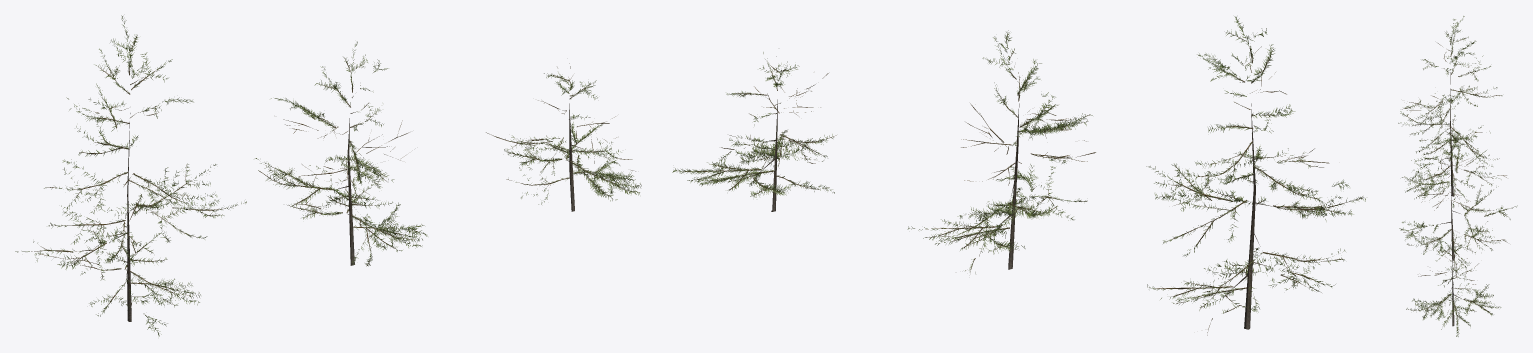
File: fir_sapling.glb
3 views of the same model, side by side, from view 1: azimuth 30°, elevation 25°; view 2: azimuth 150°, elevation 25°; view 3: azimuth 270°, elevation 25° (orthographic). The views are drawn at different scales.
Visible parts, largest first — view 1: fir_sapling_a, fir_sapling_b, fir_sapling_c; view 2: fir_sapling_a, fir_sapling_b, fir_sapling_c; view 3: fir_sapling_a, fir_sapling_b, fir_sapling_c.
Part boxes in pixels (bbox=[...]): fir_sapling_a: bbox=[15, 15, 246, 336]; fir_sapling_b: bbox=[255, 41, 427, 266]; fir_sapling_c: bbox=[486, 63, 641, 211]; fir_sapling_a: bbox=[1146, 16, 1365, 335]; fir_sapling_b: bbox=[907, 30, 1095, 273]; fir_sapling_c: bbox=[672, 52, 836, 211]; fir_sapling_a: bbox=[1398, 16, 1506, 207]; fir_sapling_b: bbox=[1399, 131, 1517, 272]; fir_sapling_c: bbox=[1406, 232, 1501, 336].
Size of the model in its own units: 2.74 by 1.3 by 0.7868.
Materials: 2 (2 with a texture image).
